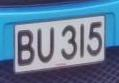1: (76, 20, 89, 62)
3: (59, 21, 81, 64)
5: (86, 18, 105, 61)
8: (15, 26, 37, 70)
U: (35, 25, 57, 66)
